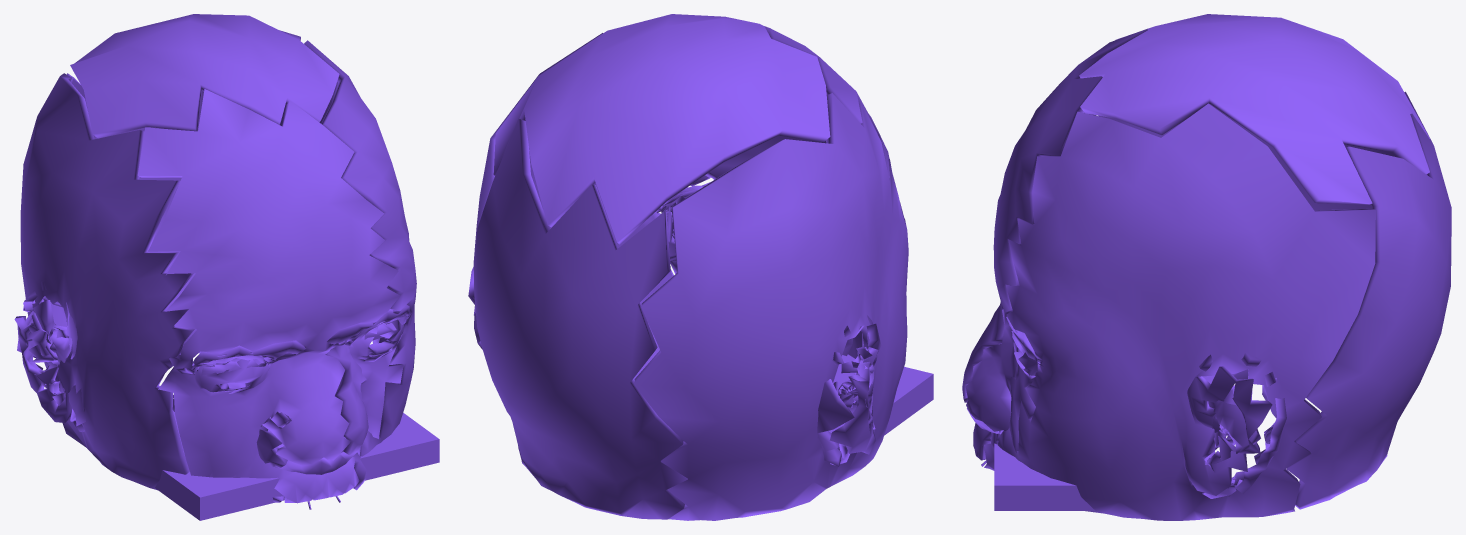
File: cap-violet-v1.glb
The picture shows the model from 3 angles, left to right: view 1: azimuth 30°, elevation 25°; view 2: azimuth 150°, elevation 25°; view 3: azimuth 270°, elevation 25°; orthographic projection. The views are drawn at different scales.
Visible parts, largest first — view 1: cap_dome, cap_visor; view 2: cap_dome, cap_visor; view 3: cap_dome, cap_visor.
Boxes of the visible parts, x1,y1,x2,y2 form: cap_dome: (14,14,416,509); cap_visor: (155,410,439,520); cap_dome: (468,14,908,520); cap_visor: (633,335,933,435); cap_dome: (962,14,1451,520); cap_visor: (994,375,1214,510).
Bounding box in the file's own units: 0.2282 × 0.2311 × 0.244.
